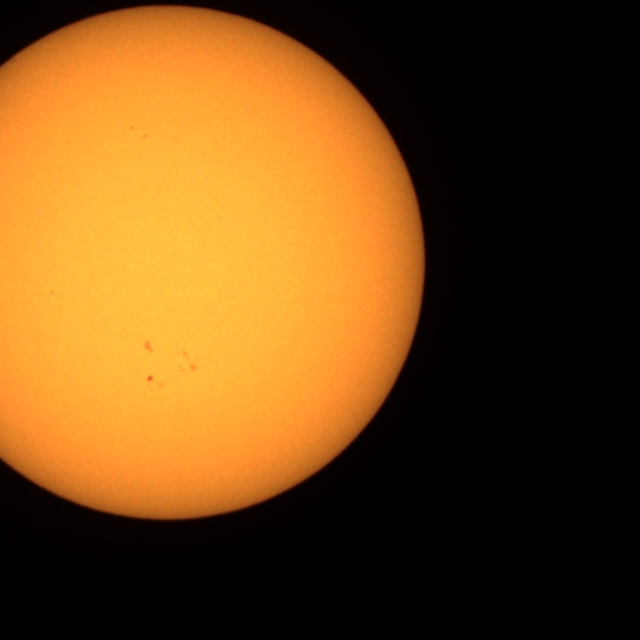sunspot: (177, 350, 199, 373), (130, 125, 148, 140), (142, 339, 154, 354), (146, 374, 154, 382), (141, 132, 148, 140), (130, 125, 136, 132)
